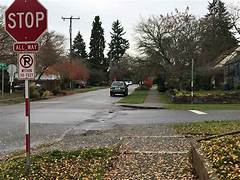stop: (2, 1, 48, 42)
